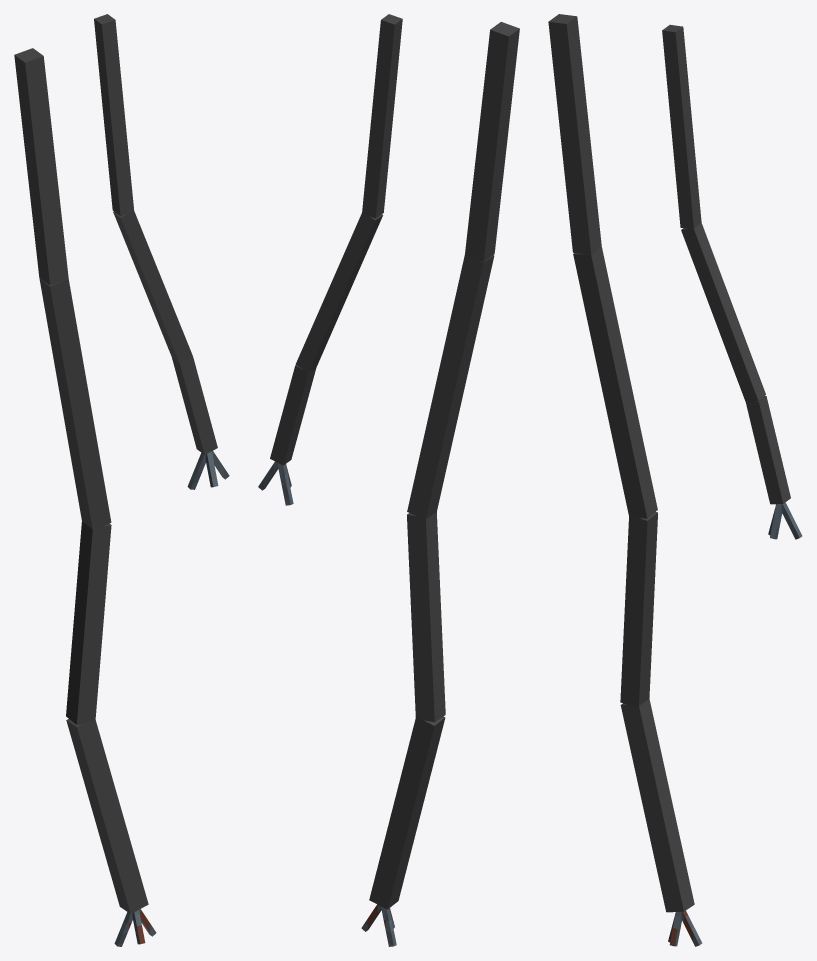
The model's file is hanging_cable.gltf.
3 views of the same model, side by side, from view 1: azimuth 30°, elevation 25°; view 2: azimuth 150°, elevation 25°; view 3: azimuth 330°, elevation 25° (orthographic). The views are drawn at different scales.
Visible parts, largest first — view 1: hanging_cable; view 2: hanging_cable; view 3: hanging_cable.
Boxes of the visible parts, <box> form: hanging_cable: <box>14,14,229,946</box>; hanging_cable: <box>258,14,519,946</box>; hanging_cable: <box>548,14,802,946</box>.
Size of the model in its own units: 0.3683 by 1.41 by 0.0893.
2 materials, 1 textured.
